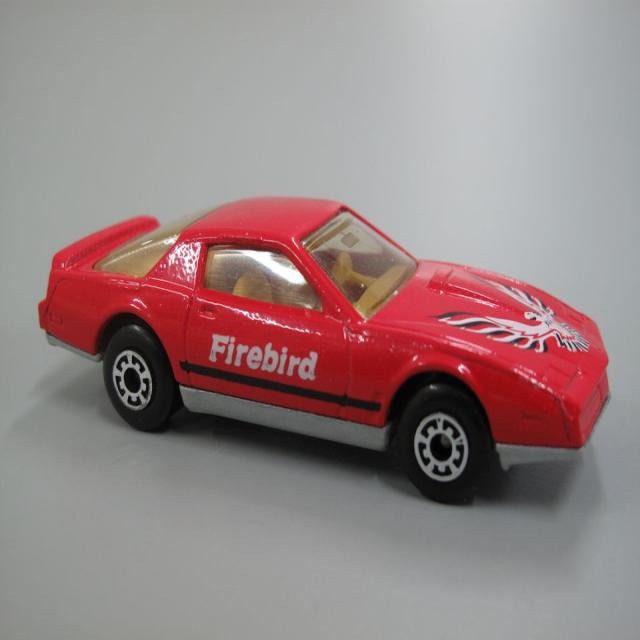Car: (37, 194, 611, 506)
